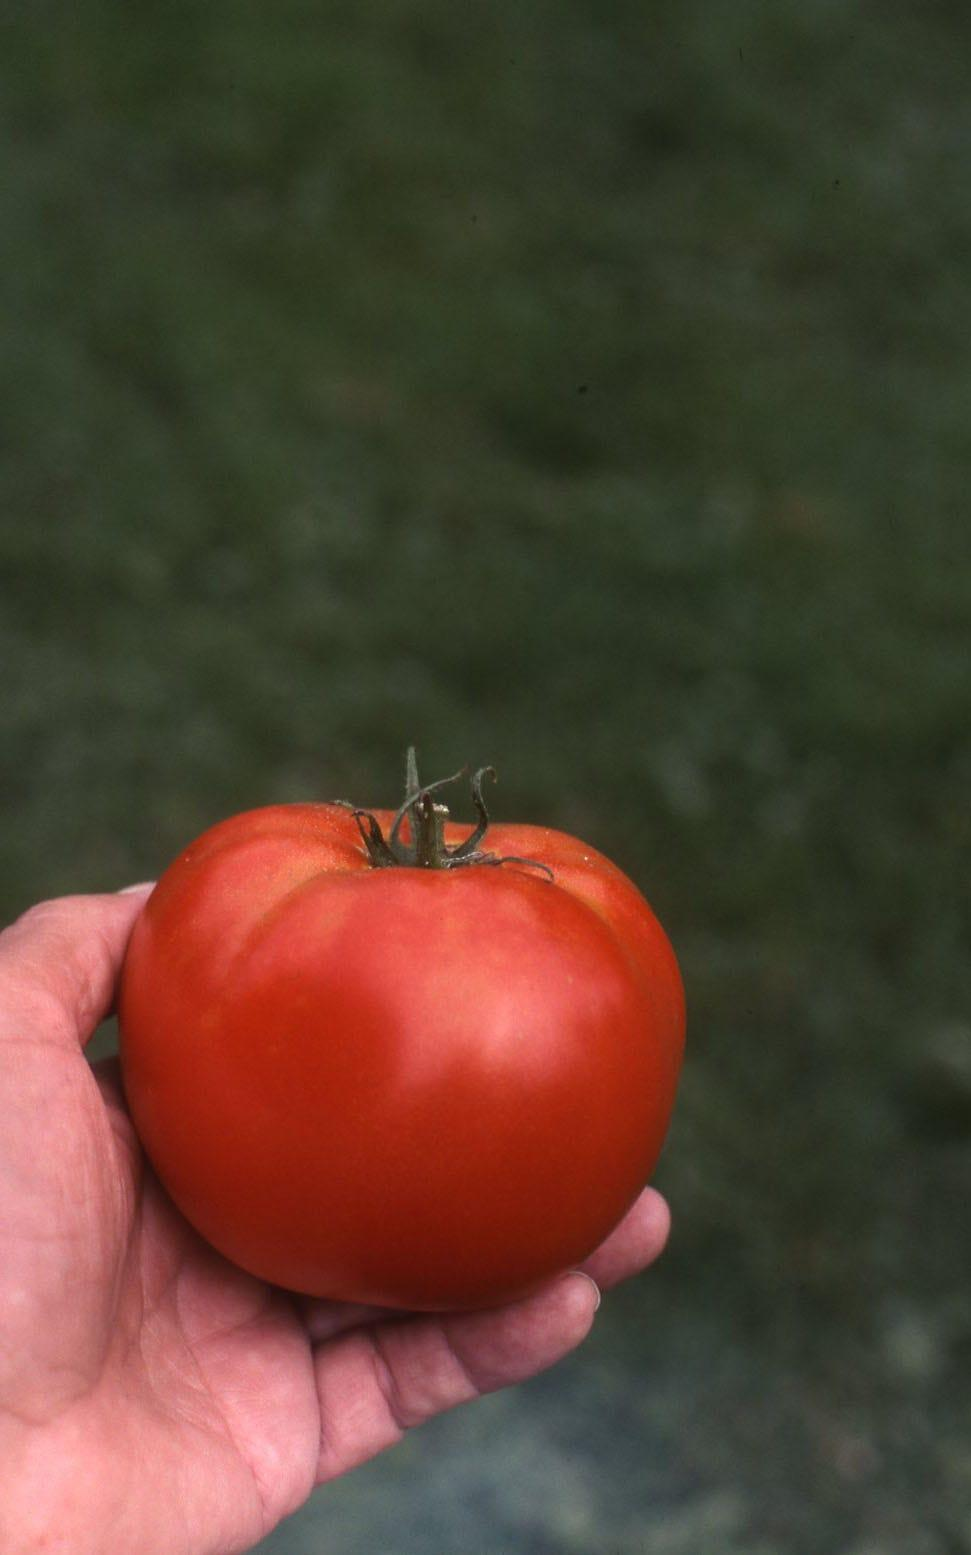healthy-tomato: (117, 782, 689, 1323)
